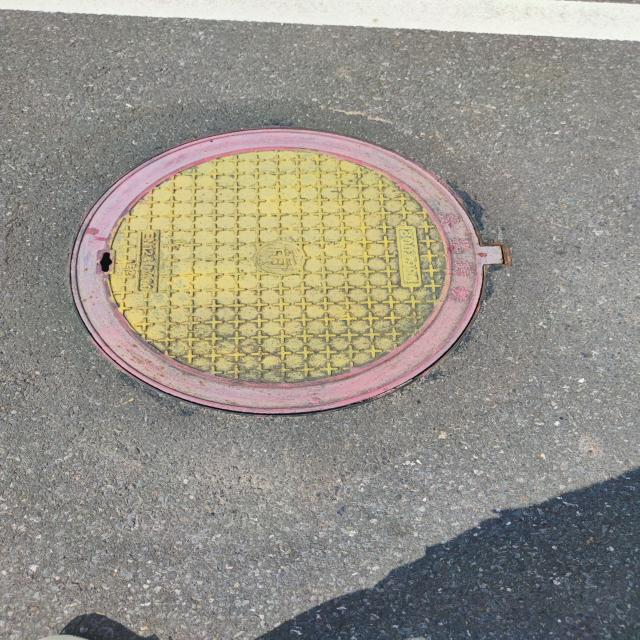Good: (62, 124, 516, 419)
